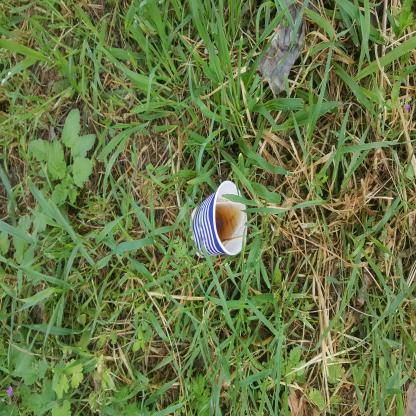trash: (82, 331, 137, 416)
